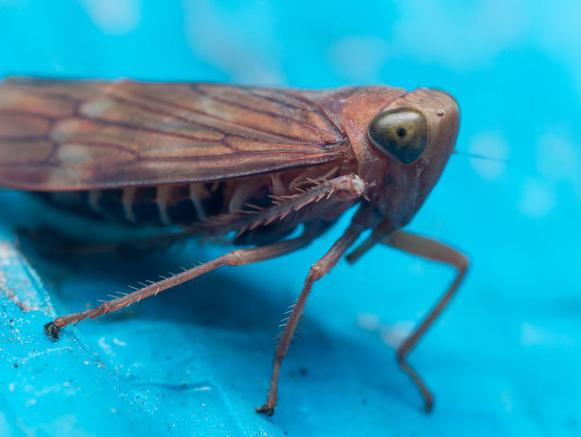Cicadellidae: (1, 81, 471, 415)
